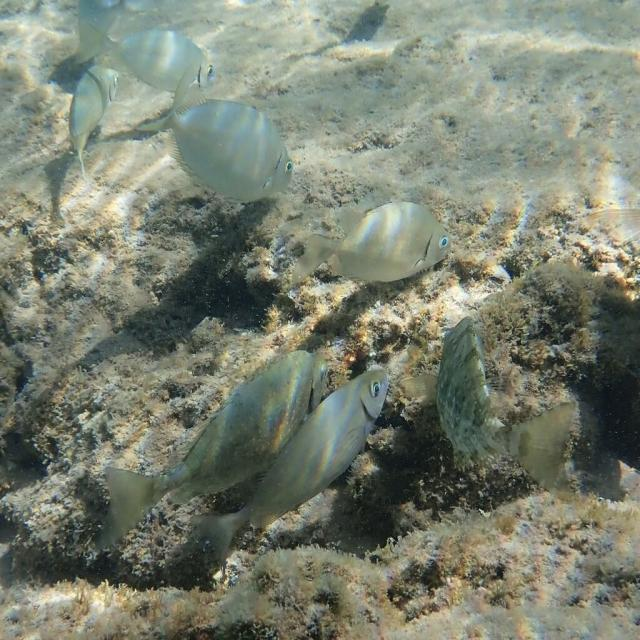Sokar Baligi: (419, 309, 593, 513), (276, 198, 466, 296)
